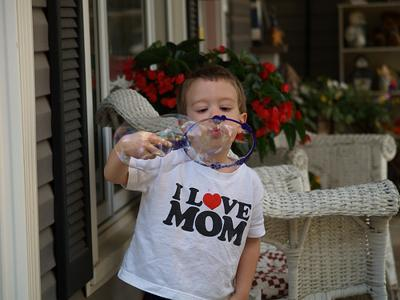person: (102, 62, 267, 300)
